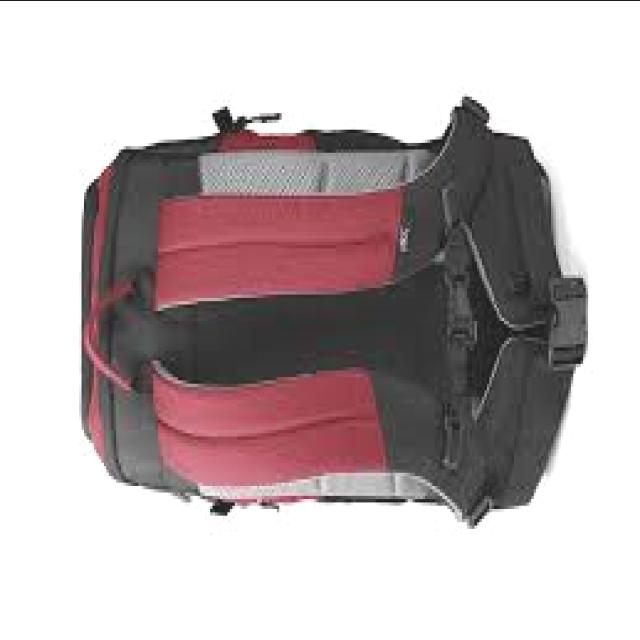backpack: (81, 97, 587, 529)
